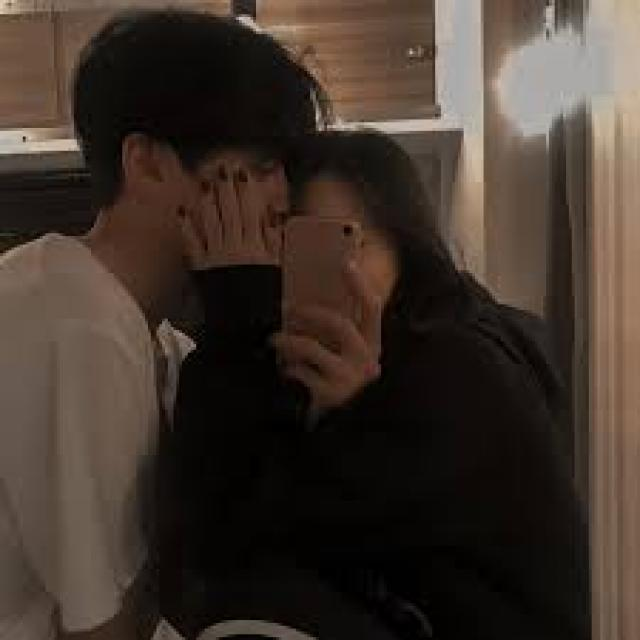Phone: (278, 216, 364, 344)
